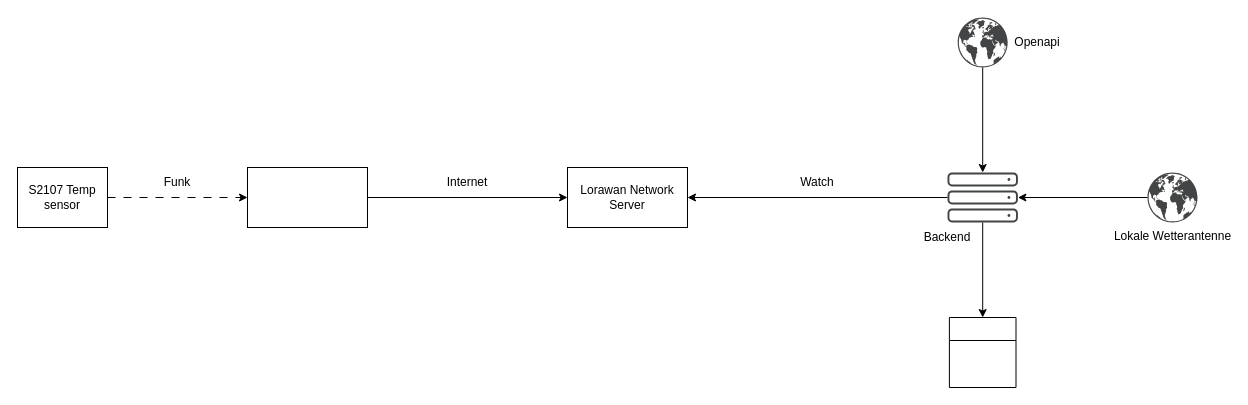
This 1248x405 diagram has some shape labels left out. Here are the shapes that lost their labels. From the top down, the centre of each, then its label:
At point 307,197: "Lora Gateway".
At point 982,352: "GUI".
